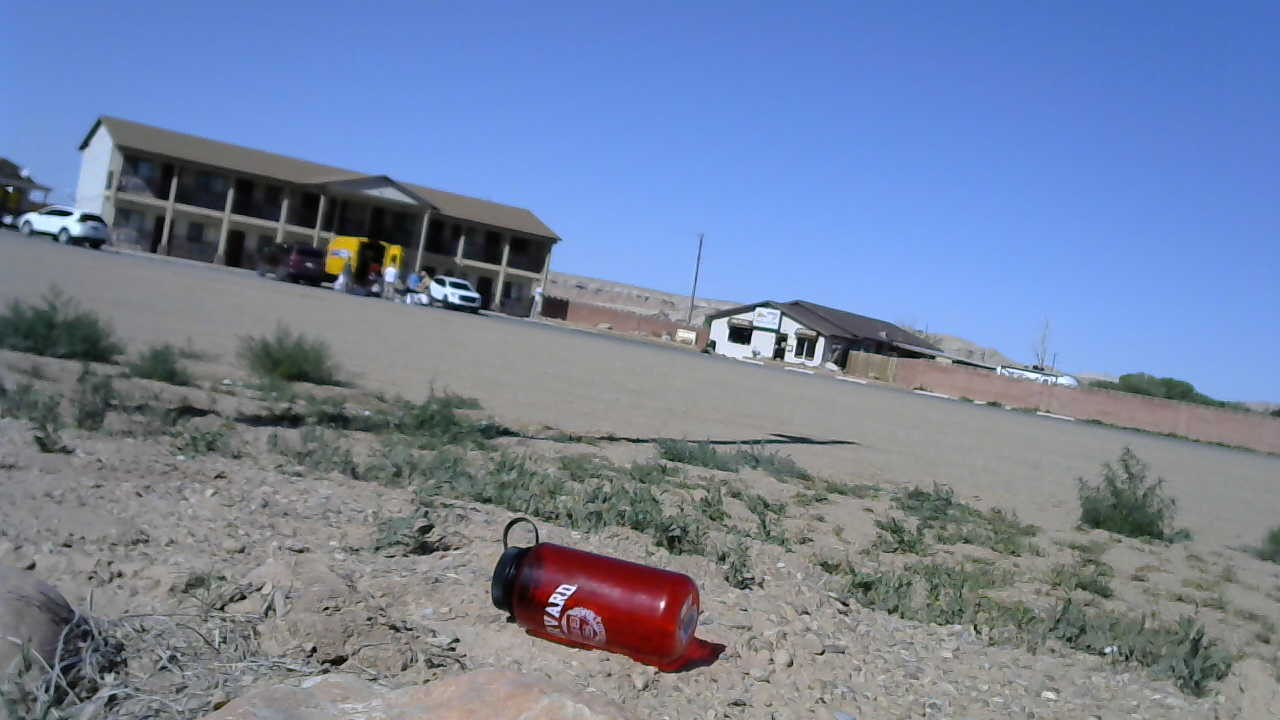bottle: (483, 513, 707, 663)
